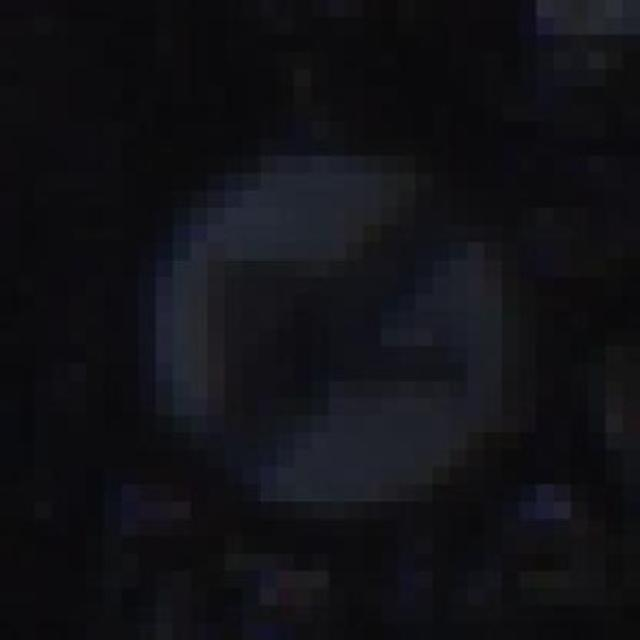Overtaking by trucks is prohibited: (104, 103, 536, 554)
